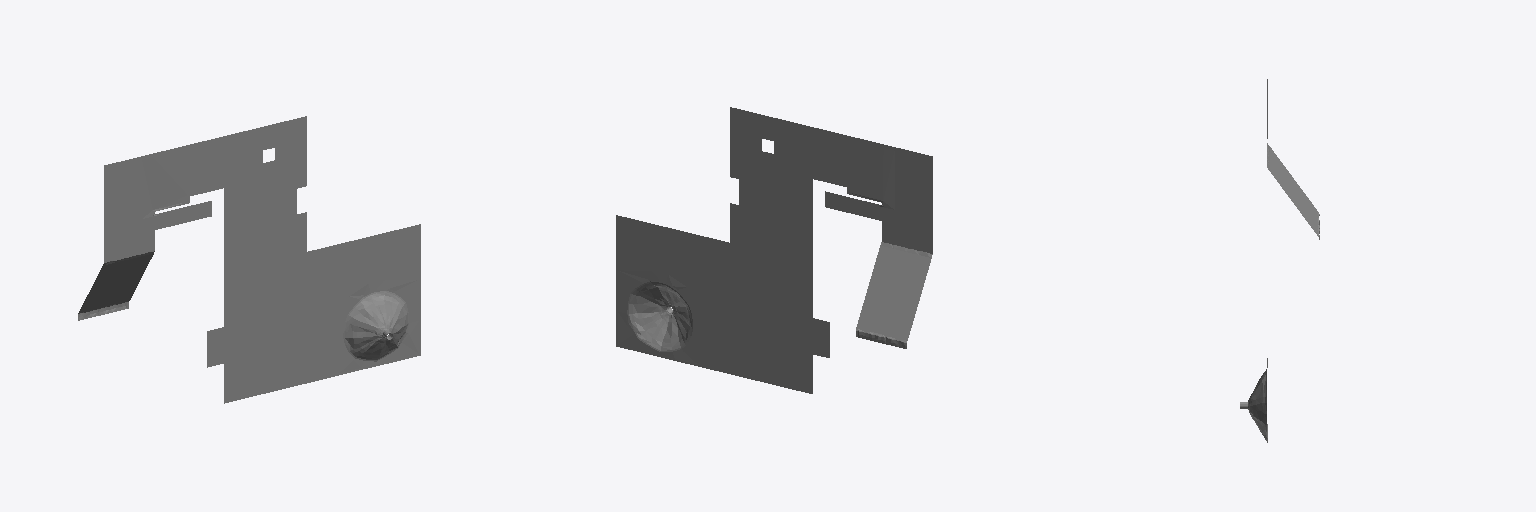
Rendered from QuickSand001.obj.
3 renders of one model, left to right at view 1: azimuth 30°, elevation 25°; view 2: azimuth 150°, elevation 25°; view 3: azimuth 270°, elevation 25°, orthographic.
Parts seen in each view (by area): view 1: suna001__QuickSand01; view 2: suna001__QuickSand01; view 3: suna001__QuickSand01.
Boxes of the visible parts, <box> form: suna001__QuickSand01: <box>78,116,420,403</box>; suna001__QuickSand01: <box>616,107,932,393</box>; suna001__QuickSand01: <box>1240,79,1319,442</box>.
Bounding box in the file's own units: 10020 × 8070 × 2188.